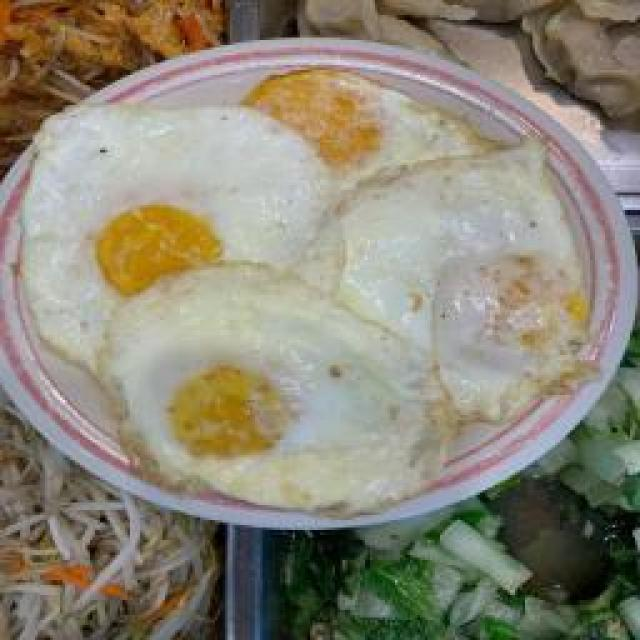Wet Waste: (67, 42, 515, 620), (512, 430, 640, 640)
